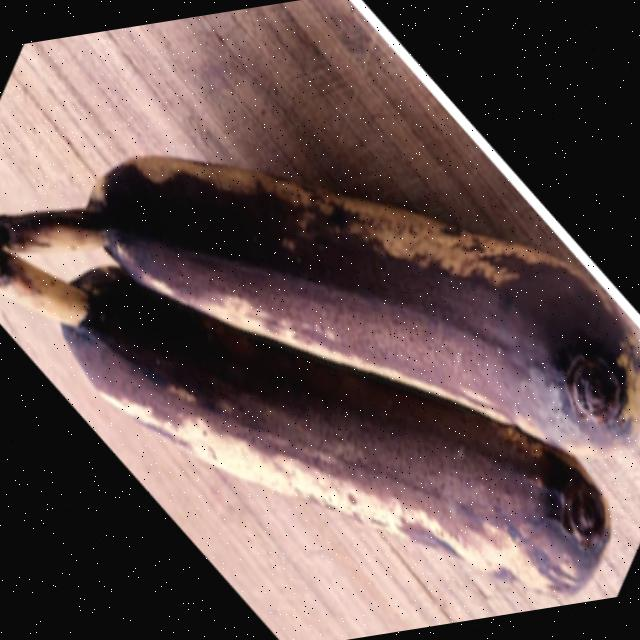Rotten: (0, 83, 640, 544)
